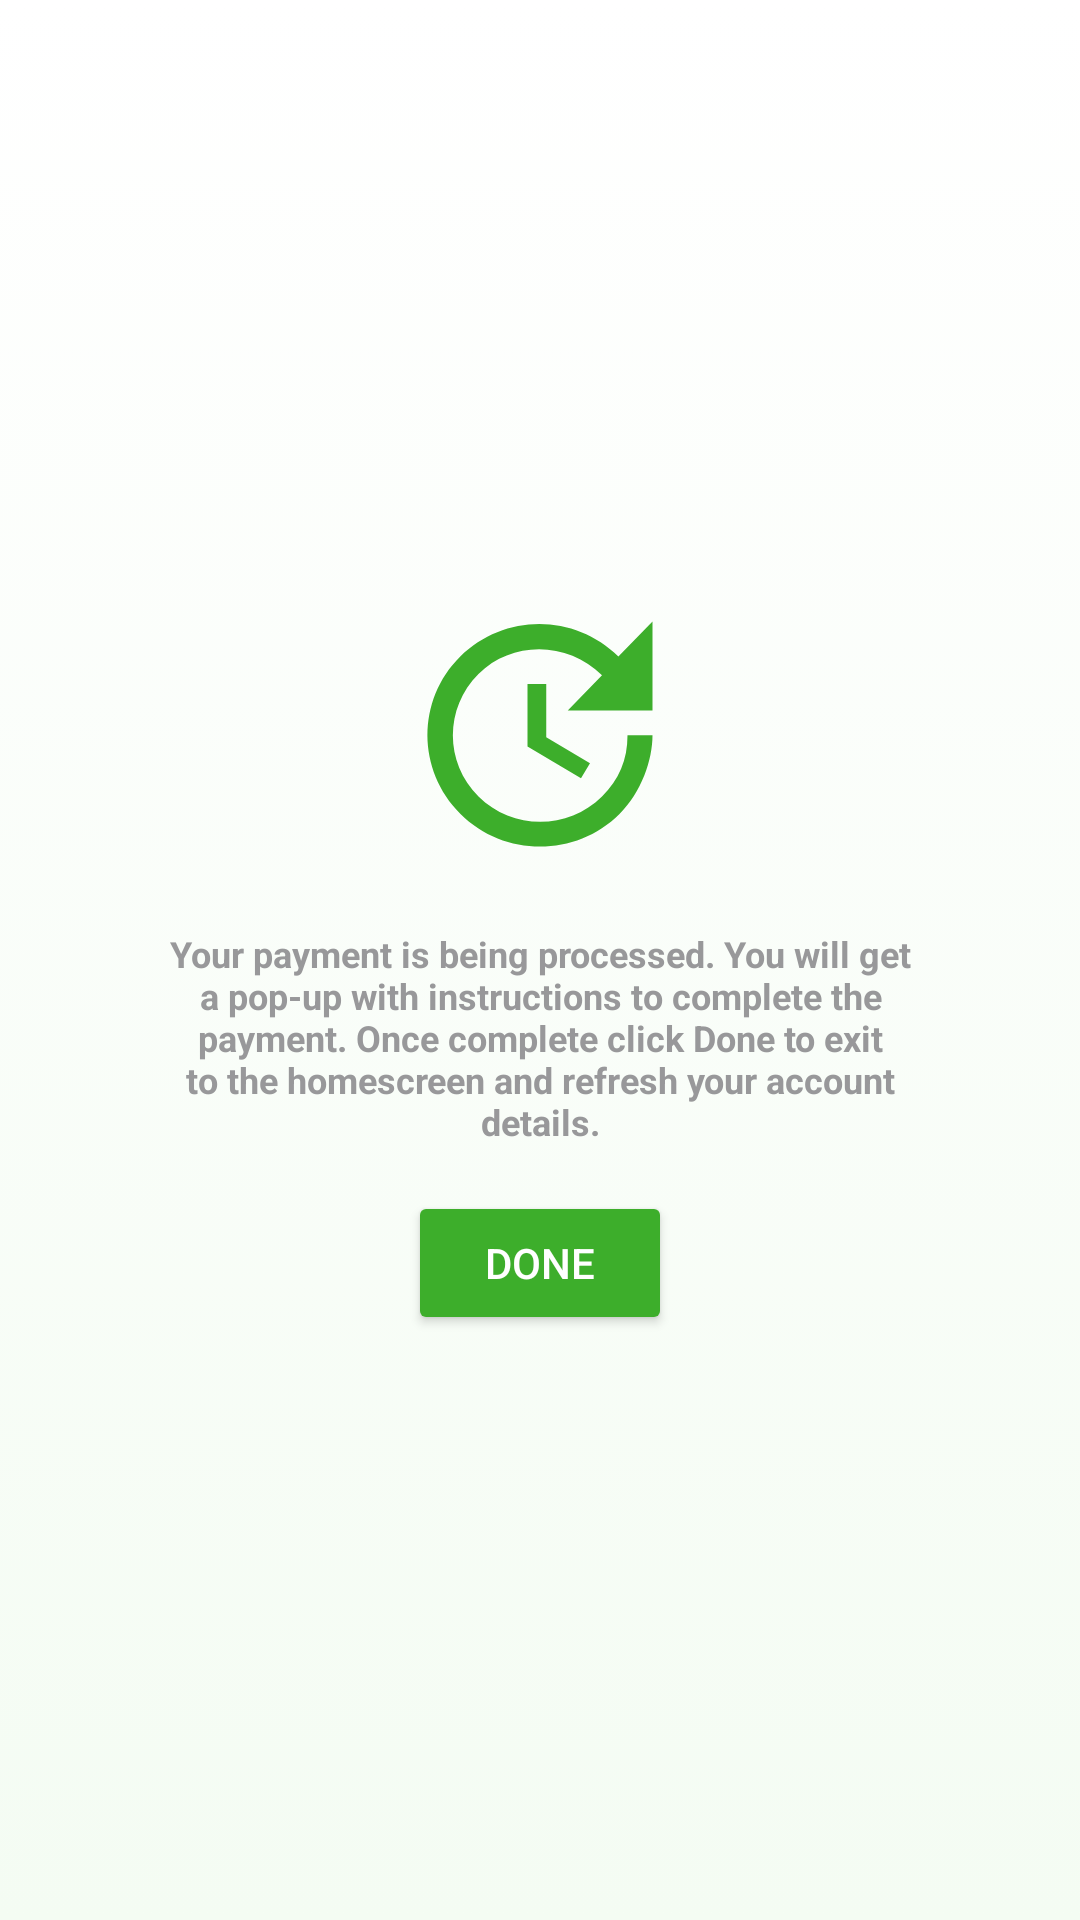

Named icons in this screenshot (1080×1920) and their centers, point (x, y):
payprocessing: point (540, 734)
